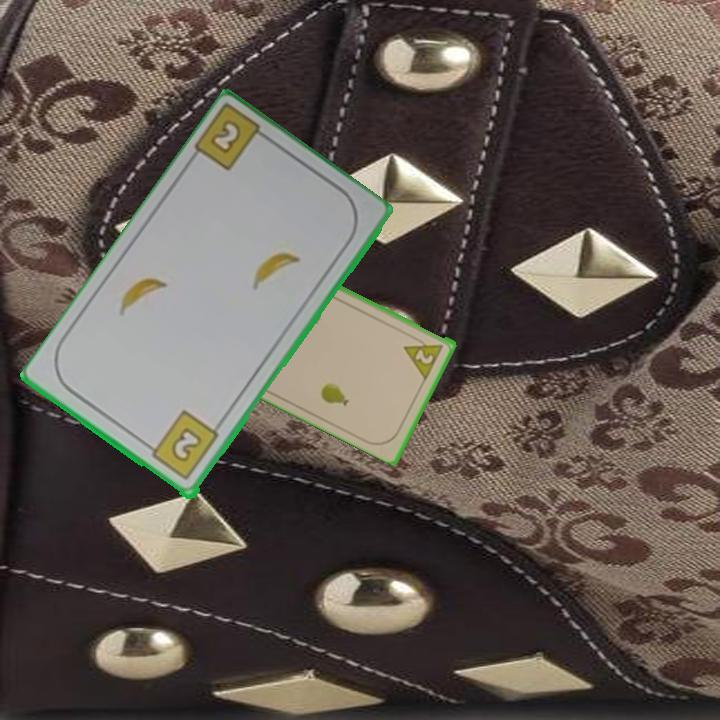2b: (142, 407, 222, 484), (206, 116, 245, 158)
2p: (400, 332, 446, 381)
